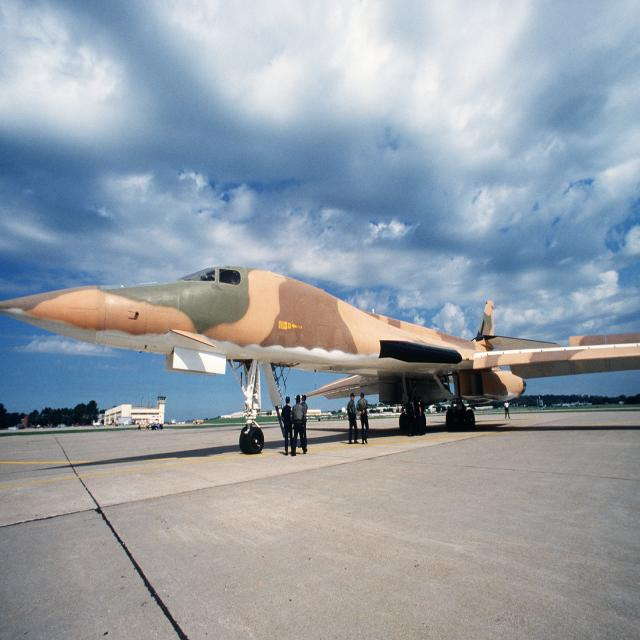MIL_Plane: (0, 297, 640, 422)
